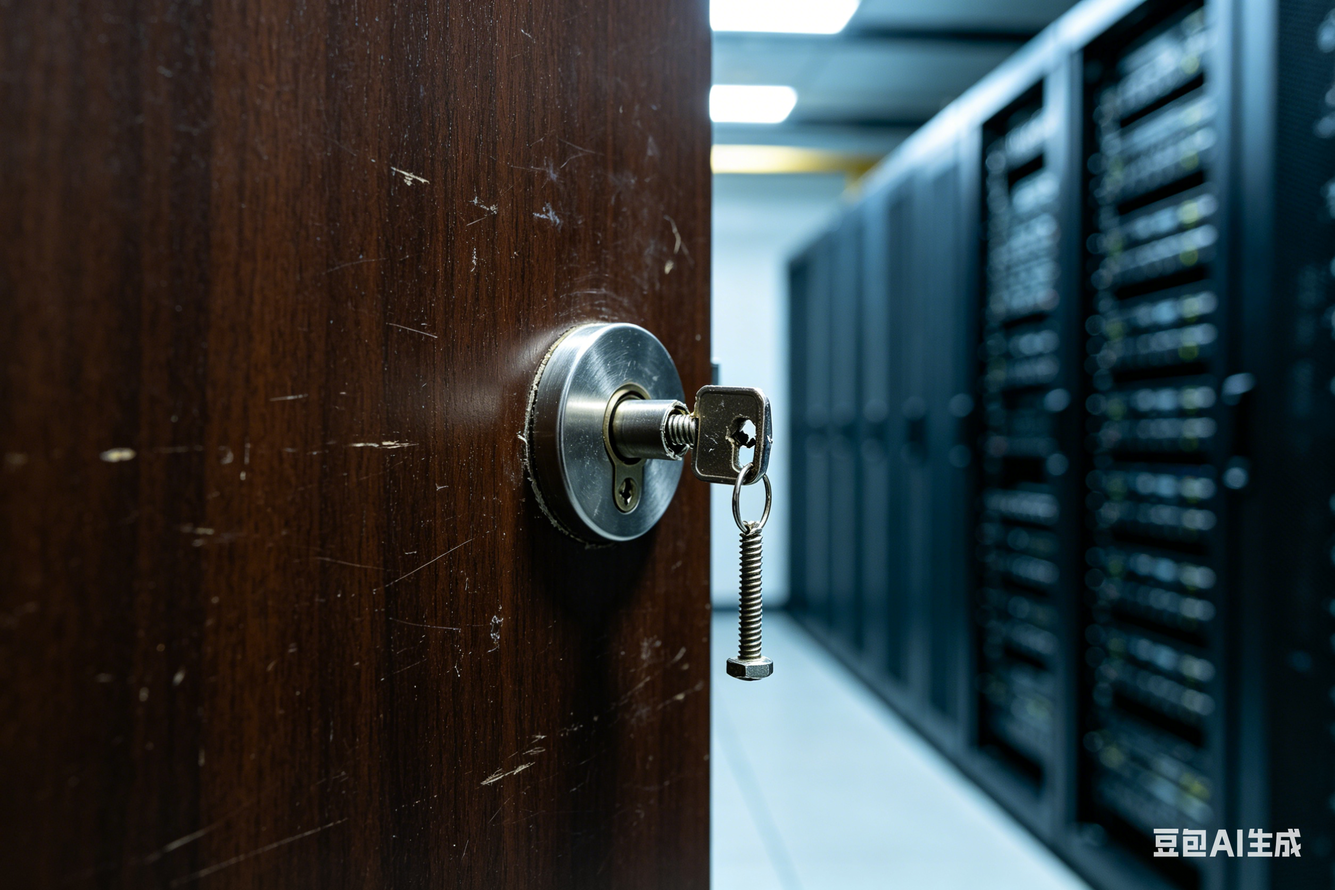BadLock: (613, 384, 789, 485)
